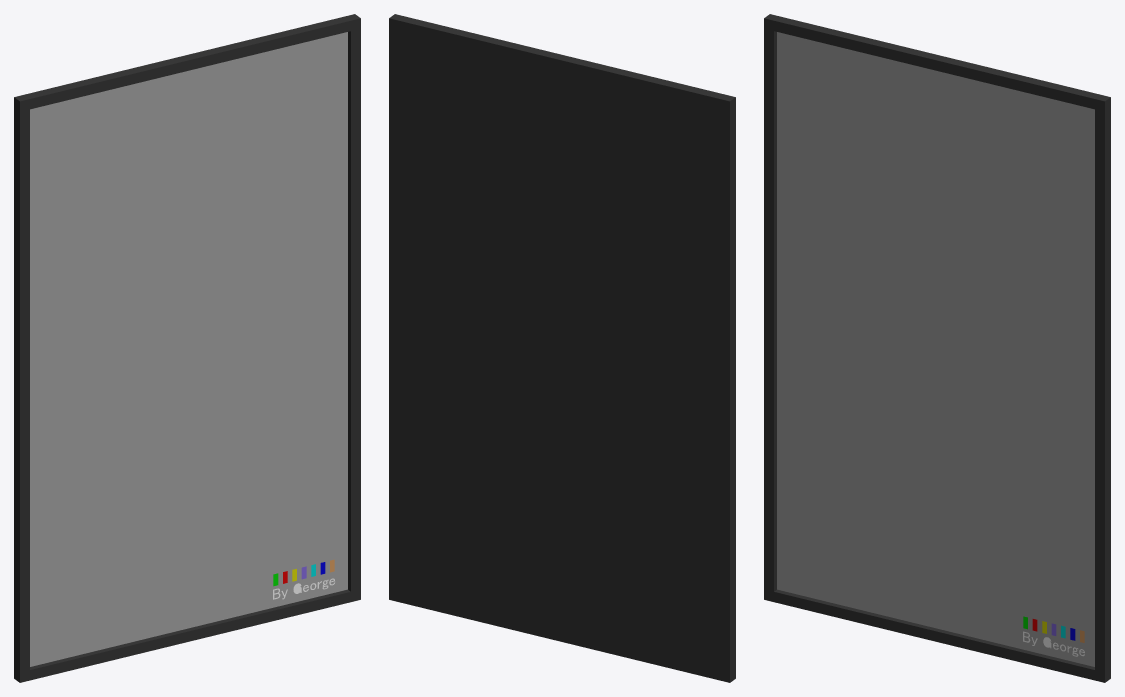
Rendered from Cuadro.fbx.
3 views of the same model, side by side, from view 1: azimuth 30°, elevation 25°; view 2: azimuth 150°, elevation 25°; view 3: azimuth 330°, elevation 25° (orthographic).
Parts seen in each view (by area): view 1: Cuadro; view 2: Cuadro; view 3: Cuadro.
Part boxes in pixels (left/top/right/bottom): Cuadro: left=14, top=14, right=360, bottom=682; Cuadro: left=389, top=14, right=735, bottom=682; Cuadro: left=764, top=14, right=1110, bottom=682.
Bounding box in the file's own units: 156 × 254 × 4.66.
Materials: 9 (1 with a texture image).
